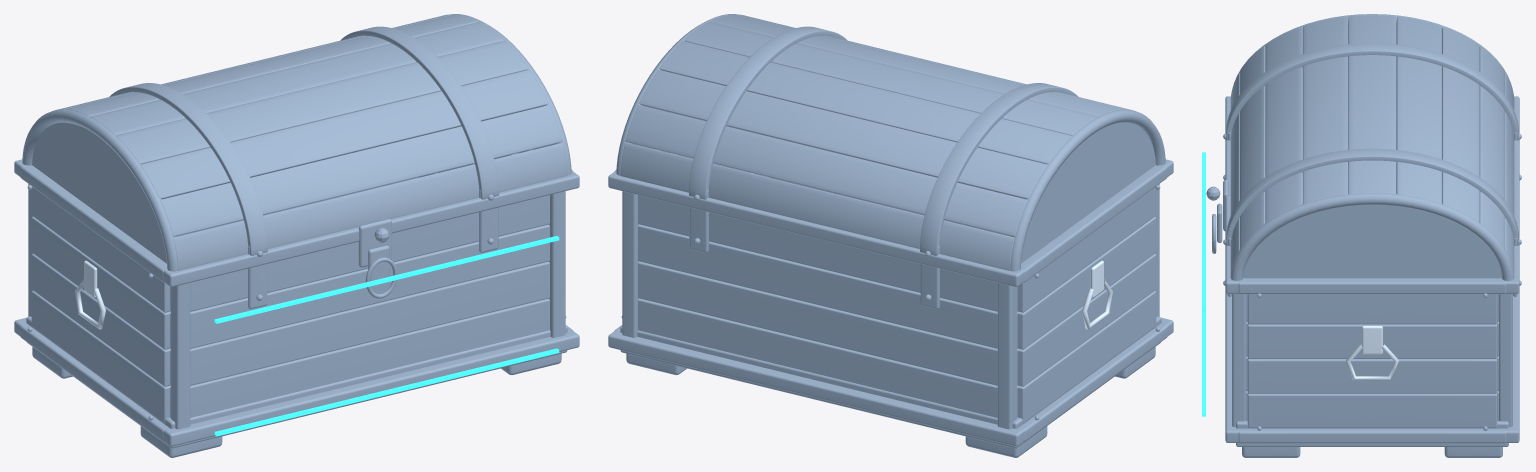
The model's file is time-capsule-metal.glb.
3 views of the same model, side by side, from view 1: azimuth 30°, elevation 25°; view 2: azimuth 150°, elevation 25°; view 3: azimuth 270°, elevation 25° (orthographic). The views are drawn at different scales.
Parts seen in each view (by area): view 1: Body_Attic_warm_oak, Lid_Attic_warm_oak, Body_Dark_worn_oak_edges, Lid_Aged_honey_brass, Lid_Dark_worn_oak_edges, Body_Interior_cedar, Body_Aged_honey_brass, Capsule_Cyan_Inlay, Capsule_Cyan_Inlay.001, Body_Patinated_side_handles; view 2: Body_Attic_warm_oak, Lid_Attic_warm_oak, Body_Dark_worn_oak_edges, Lid_Aged_honey_brass, Body_Interior_cedar, Lid_Dark_worn_oak_edges, Body_Aged_honey_brass, Body_Patinated_side_handles; view 3: Lid_Attic_warm_oak, Body_Attic_warm_oak, Body_Dark_worn_oak_edges, Lid_Aged_honey_brass, Lid_Dark_worn_oak_edges, Body_Interior_cedar, Body_Patinated_side_handles, Body_Aged_honey_brass, Capsule_Cyan_Inlay.001, Capsule_Cyan_Inlay.
Boxes of the visible parts, left/top/right/bottom form: Body_Attic_warm_oak: left=14, top=153, right=579, bottom=446; Lid_Attic_warm_oak: left=32, top=14, right=567, bottom=270; Body_Dark_worn_oak_edges: left=20, top=149, right=573, bottom=457; Lid_Aged_honey_brass: left=109, top=26, right=498, bottom=255; Lid_Dark_worn_oak_edges: left=22, top=14, right=571, bottom=271; Body_Interior_cedar: left=26, top=316, right=567, bottom=448; Body_Aged_honey_brass: left=248, top=189, right=498, bottom=308; Capsule_Cyan_Inlay: left=214, top=348, right=559, bottom=436; Capsule_Cyan_Inlay.001: left=214, top=236, right=559, bottom=323; Body_Patinated_side_handles: left=75, top=260, right=105, bottom=329; Body_Attic_warm_oak: left=608, top=153, right=1173, bottom=446; Lid_Attic_warm_oak: left=620, top=14, right=1155, bottom=270; Body_Dark_worn_oak_edges: left=614, top=149, right=1167, bottom=457; Lid_Aged_honey_brass: left=689, top=26, right=1078, bottom=255; Body_Interior_cedar: left=620, top=316, right=1161, bottom=448; Lid_Dark_worn_oak_edges: left=616, top=14, right=1165, bottom=271; Body_Aged_honey_brass: left=689, top=189, right=939, bottom=308; Body_Patinated_side_handles: left=1082, top=260, right=1112, bottom=329; Lid_Attic_warm_oak: left=1230, top=15, right=1514, bottom=278; Body_Attic_warm_oak: left=1225, top=96, right=1519, bottom=442; Body_Dark_worn_oak_edges: left=1232, top=278, right=1512, bottom=457; Lid_Aged_honey_brass: left=1226, top=43, right=1518, bottom=245; Lid_Dark_worn_oak_edges: left=1231, top=14, right=1513, bottom=280; Body_Interior_cedar: left=1236, top=421, right=1508, bottom=446; Body_Patinated_side_handles: left=1346, top=326, right=1398, bottom=380; Body_Aged_honey_brass: left=1206, top=132, right=1521, bottom=296; Capsule_Cyan_Inlay.001: left=1202, top=152, right=1205, bottom=311; Capsule_Cyan_Inlay: left=1202, top=311, right=1205, bottom=416.
Size of the model in its own units: 0.5784 by 0.382 by 0.4101.
